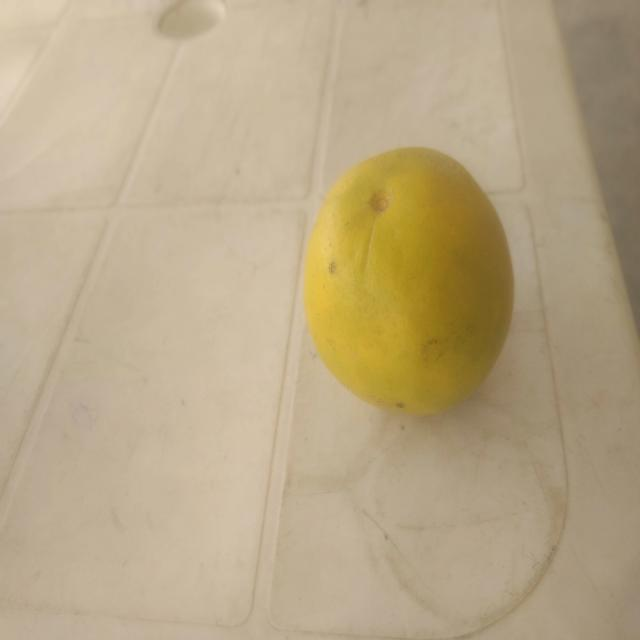Ripe orange: (291, 131, 534, 452)
